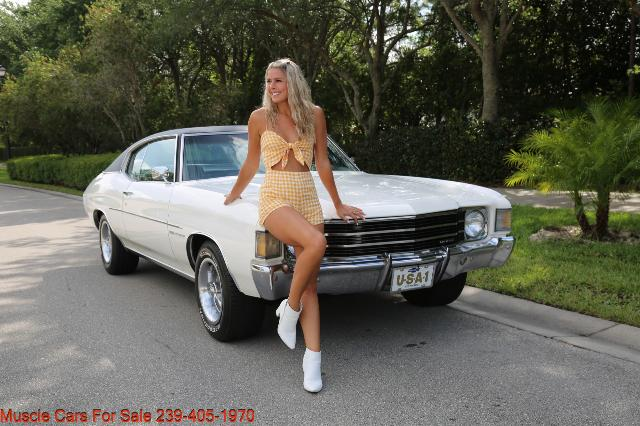chevelle-1972: (83, 126, 308, 341), (263, 130, 515, 306)
